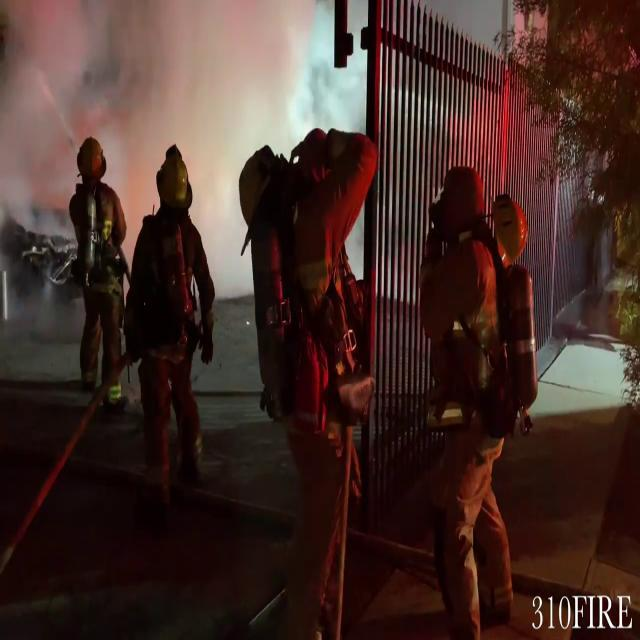Smoke: (0, 0, 290, 258)
